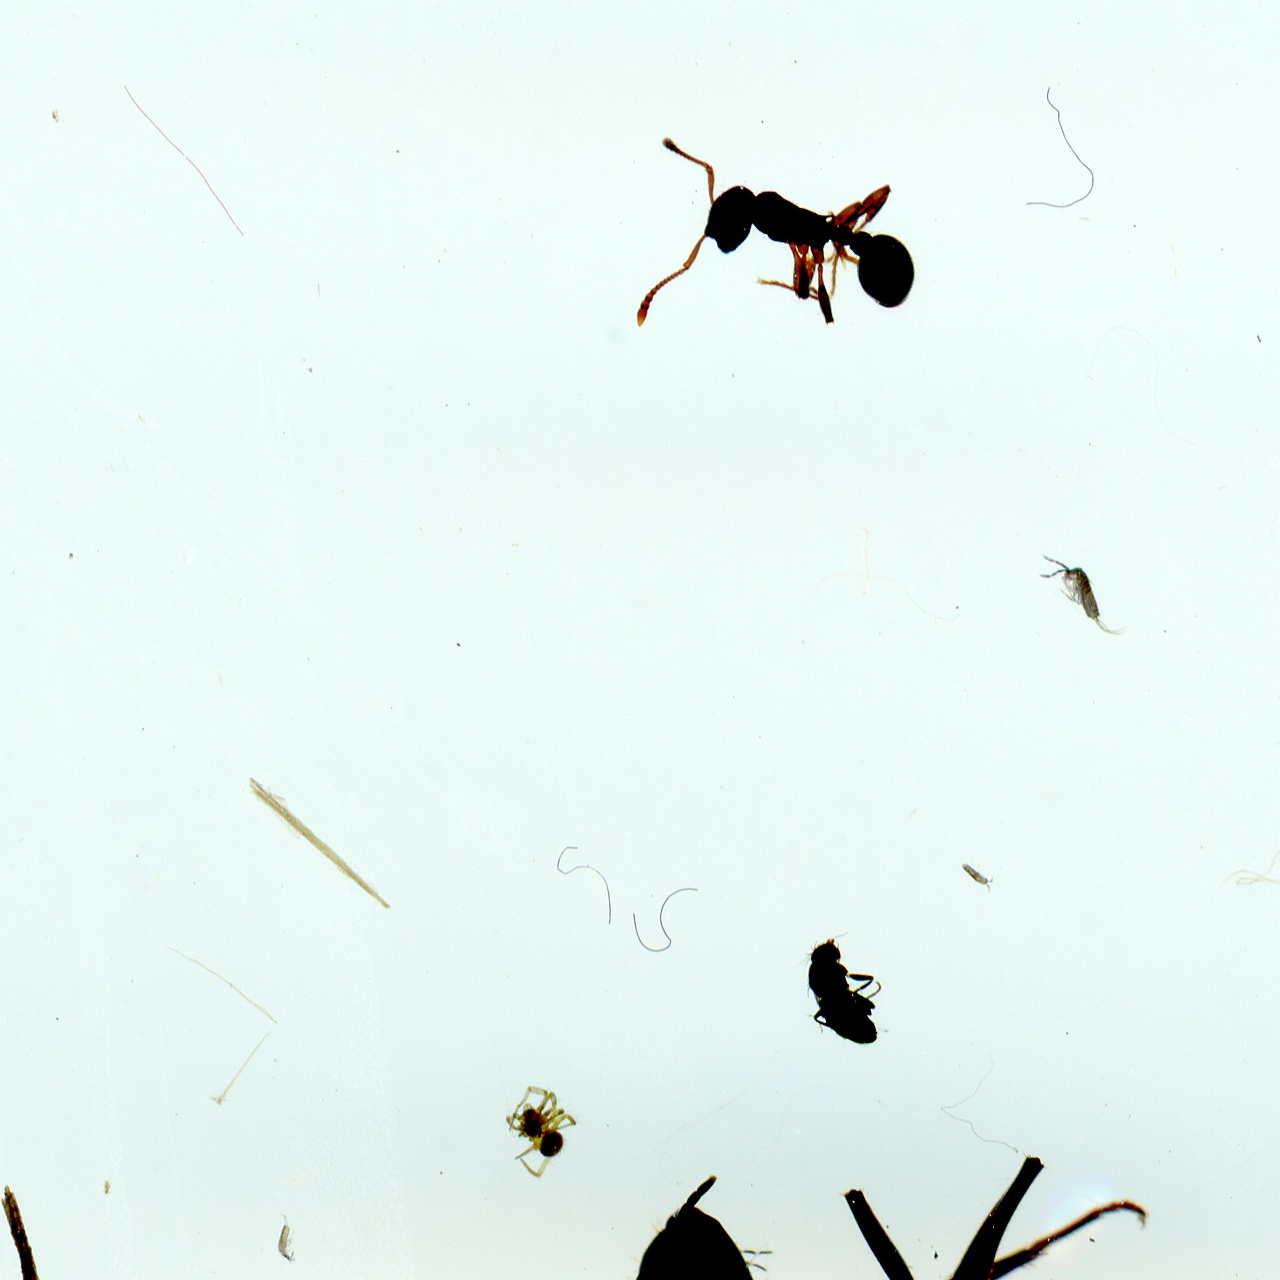arthropod: (600, 1132, 1262, 1280), (620, 124, 941, 380), (779, 915, 904, 1069), (1036, 547, 1136, 647), (503, 1083, 579, 1180), (953, 856, 1005, 898), (274, 1206, 302, 1269)
